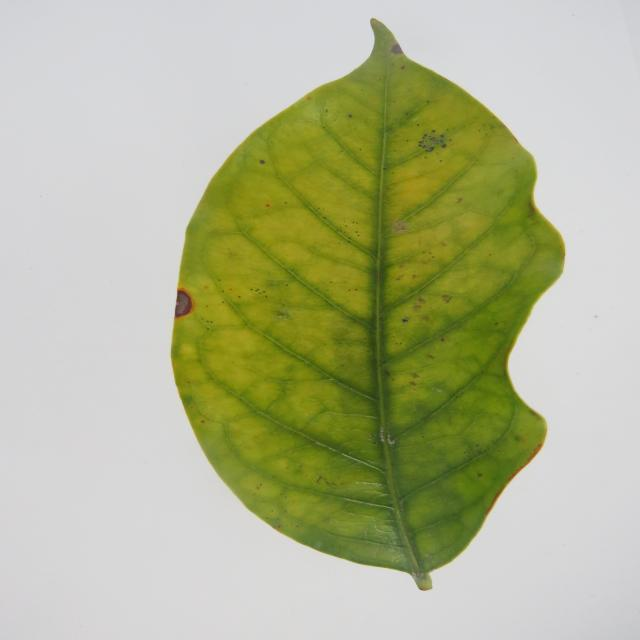DeficienciaNutricional-Magnesio: (172, 20, 563, 590)
